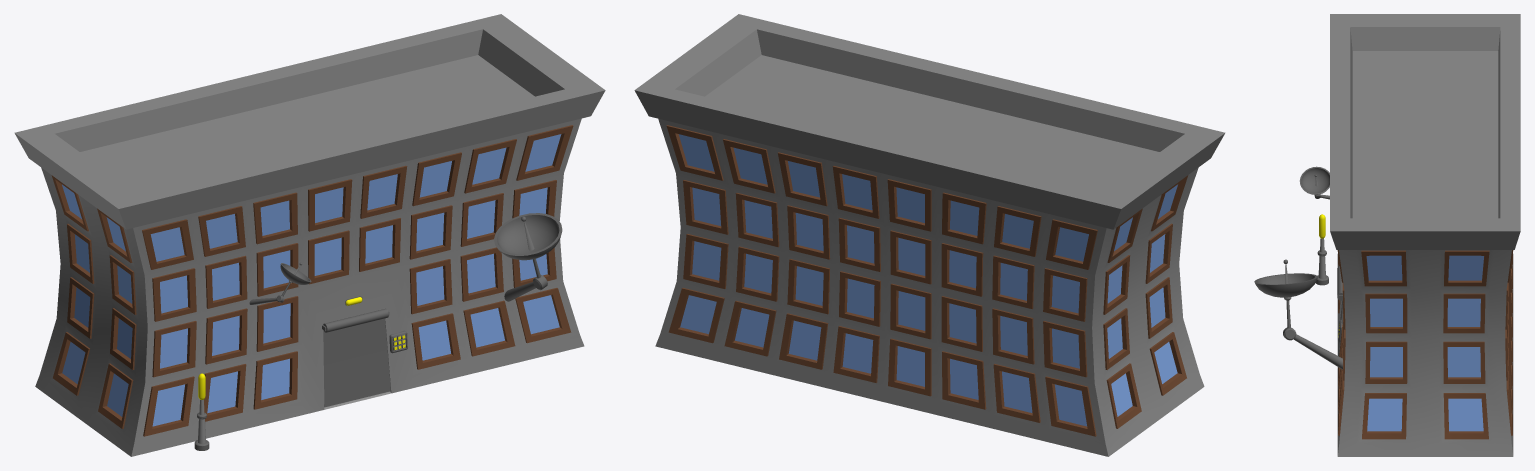
File: AI LAB NEW.fbx
3 renders of one model, left to right at view 1: azimuth 30°, elevation 25°; view 2: azimuth 150°, elevation 25°; view 3: azimuth 270°, elevation 25°, orthographic. The views are drawn at different scales.
Parts seen in each view (by area): view 1: Building, Door; view 2: Building; view 3: Building.
Boxes of the visible parts, x1,y1,x2,y2 form: Building: (14, 14, 605, 456); Door: (323, 318, 390, 407); Building: (634, 14, 1225, 456); Building: (1254, 14, 1520, 456).
Bounding box in the file's own units: 11242 × 5627 × 5826.
